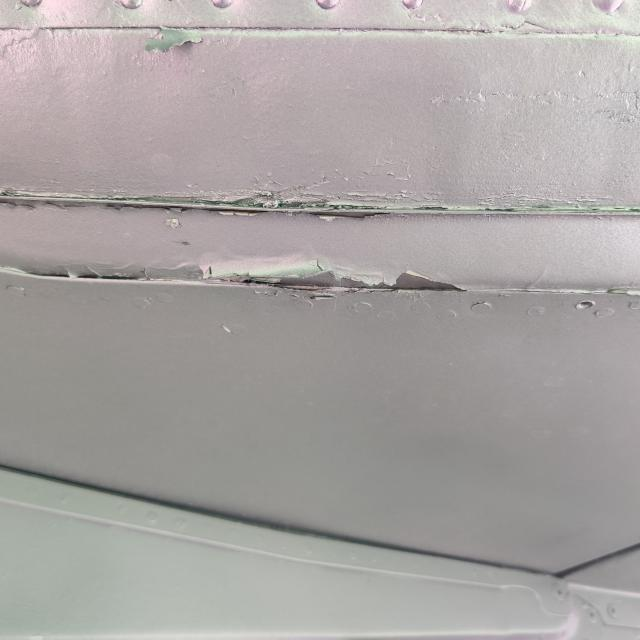Paint-off: (225, 258, 461, 290)
